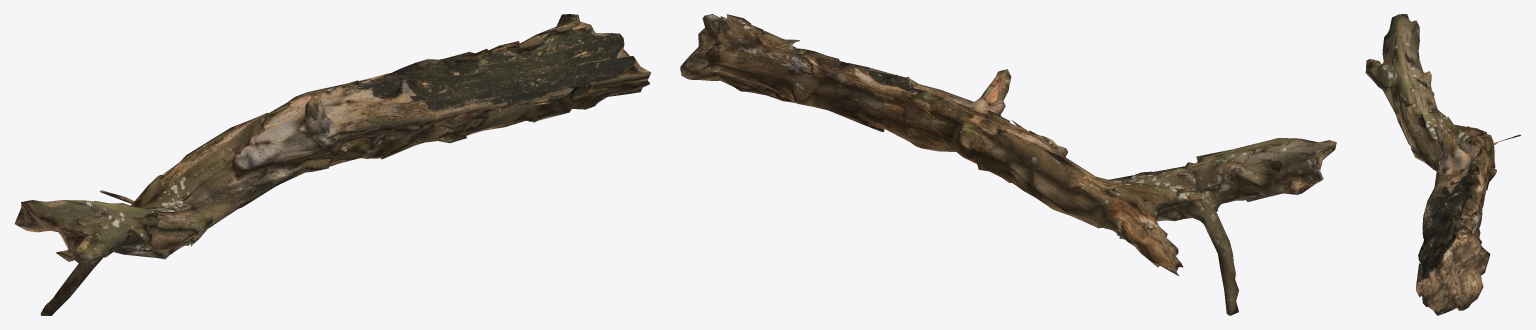
Rendered from log_fallen_scan.glb.
3 renders of one model, left to right at view 1: azimuth 30°, elevation 25°; view 2: azimuth 150°, elevation 25°; view 3: azimuth 270°, elevation 25°, orthographic. The views are drawn at different scales.
Visible parts, largest first — view 1: dead_tree_trunk_02; view 2: dead_tree_trunk_02; view 3: dead_tree_trunk_02.
Boxes of the visible parts, left/top/right/bottom form: dead_tree_trunk_02: left=14, top=14, right=651, bottom=315; dead_tree_trunk_02: left=680, top=14, right=1336, bottom=315; dead_tree_trunk_02: left=1365, top=14, right=1520, bottom=315.
Size of the model in its own units: 4.05 by 1.05 by 1.05.
Materials: 1 (1 with a texture image).
